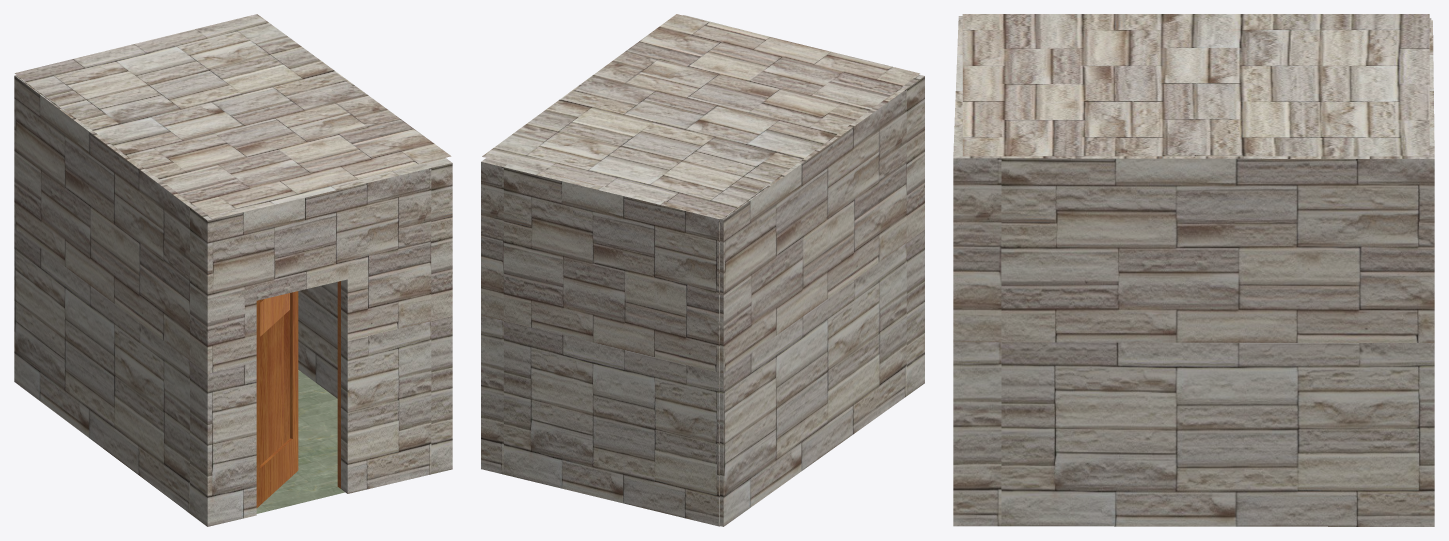
File: bano_i.obj
3 renders of one model, left to right at view 1: azimuth 30°, elevation 25°; view 2: azimuth 150°, elevation 25°; view 3: azimuth 270°, elevation 25°, orthographic. The views are drawn at different scales.
Parts seen in each view (by area): view 1: Wall001, Plane002, PivotDoor001, Plane001; view 2: Wall001, Plane002; view 3: Wall001, Plane002.
Boxes of the visible parts, x1=… form: Wall001: x1=14, y1=75, x2=452, y2=526; Plane002: x1=14, y1=14, x2=451, y2=215; PivotDoor001: x1=256, y1=281, x2=340, y2=507; Plane001: x1=256, y1=370, x2=344, y2=513; Wall001: x1=481, y1=15, x2=924, y2=526; Plane002: x1=482, y1=14, x2=919, y2=215; Wall001: x1=953, y1=16, x2=1434, y2=526; Plane002: x1=962, y1=14, x2=1429, y2=156.
Bounding box in the file's own units: 83.96 × 101 × 119.
